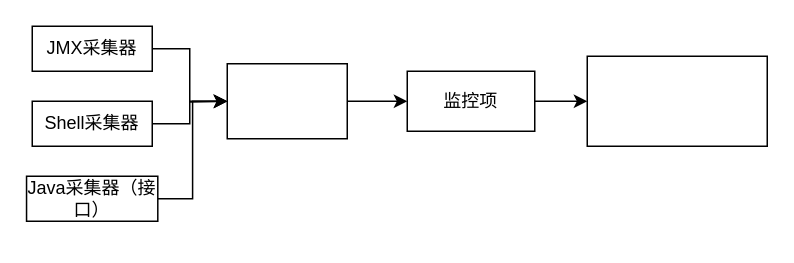
Image size: 794x263. Some labels were removed from this diagram. Here are the shapes that lost their labels. From the top down, the box of each, then its label:
(226, 62, 347, 139): 数据采集器
(586, 55, 767, 146): 数据中心
